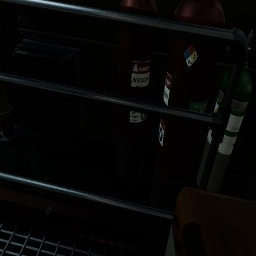0: (196, 29, 254, 193), (255, 199, 256, 202)
NitrogenTank ,: (150, 0, 225, 231), (116, 0, 157, 185)
